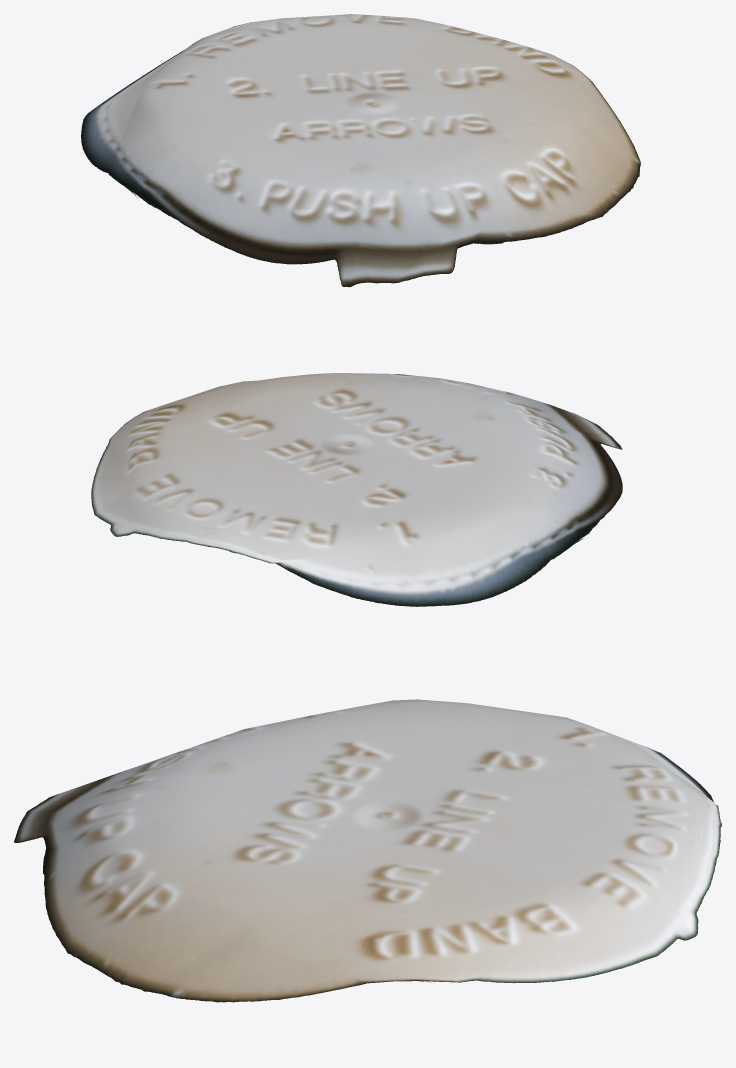
File: IMG_6192_CT--AC.dae
3 renders of one model, top to bottom at view 1: azimuth 30°, elevation 25°; view 2: azimuth 150°, elevation 25°; view 3: azimuth 270°, elevation 25°, orthographic. The views are drawn at different scales.
Parts seen in each view (by area): view 1: IMG_6192_CT--AC_001; view 2: IMG_6192_CT--AC_001; view 3: IMG_6192_CT--AC_001.
Boxes of the visible parts, left/top/right/bottom form: IMG_6192_CT--AC_001: left=81, top=14, right=640, bottom=287; IMG_6192_CT--AC_001: left=91, top=373, right=622, bottom=606; IMG_6192_CT--AC_001: left=14, top=699, right=721, bottom=1002.
Bounding box in the file's own units: 7.72 × 8 × 1.31.
1 material, 1 textured.
